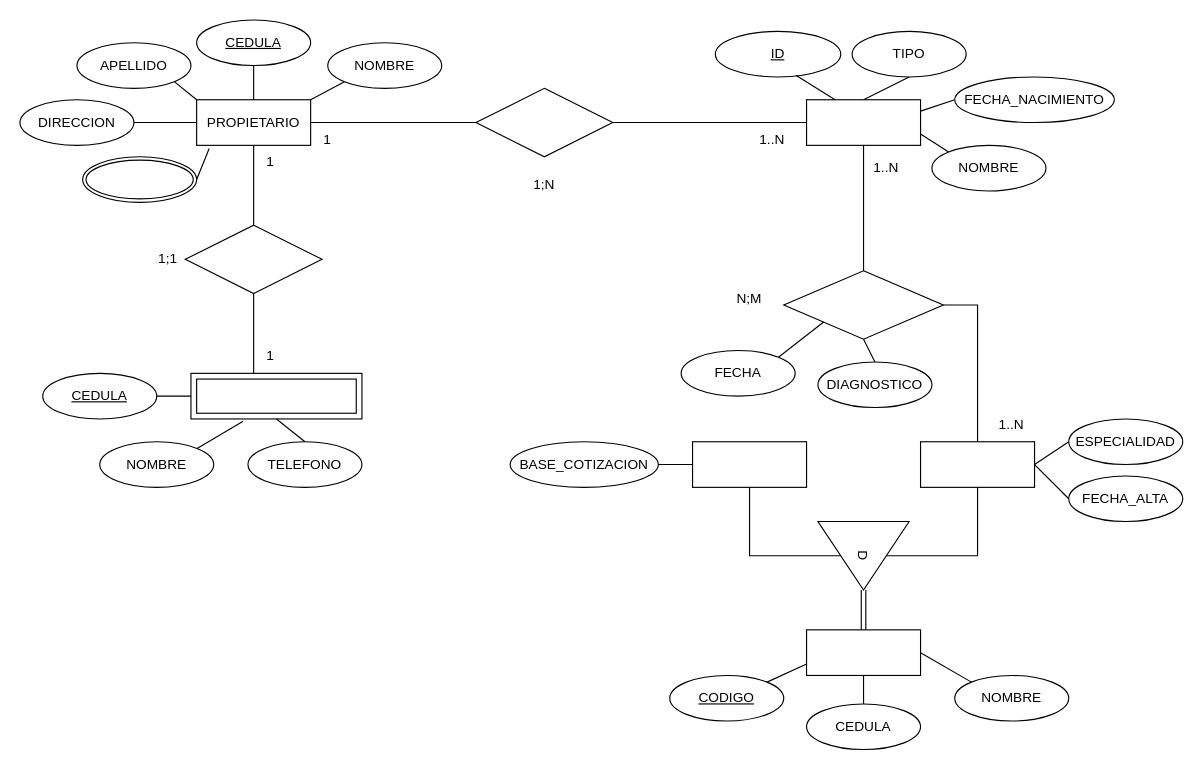
This 1203x770 diagram has some shape labels left out. Each missing label, with the centre of its shape:
"AUXILIAR" goes at pixel 749 464.
"FAMILIAR_CONTACTO" goes at pixel 276 395.
"LLEVA" goes at pixel 544 122.
"MASCOTA" goes at pixel 863 122.
"PASA_CONSULTA" goes at pixel 863 304.
"PERSONAL" goes at pixel 863 652.
"TELEFONOS" goes at pixel 139 179.
"TIENE" goes at pixel 253 259.
"VETERINARIO" goes at pixel 977 464.
